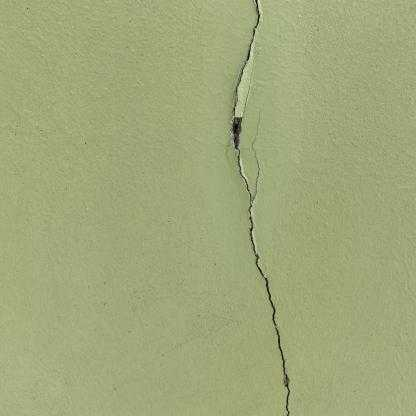crack: (226, 2, 291, 415)
